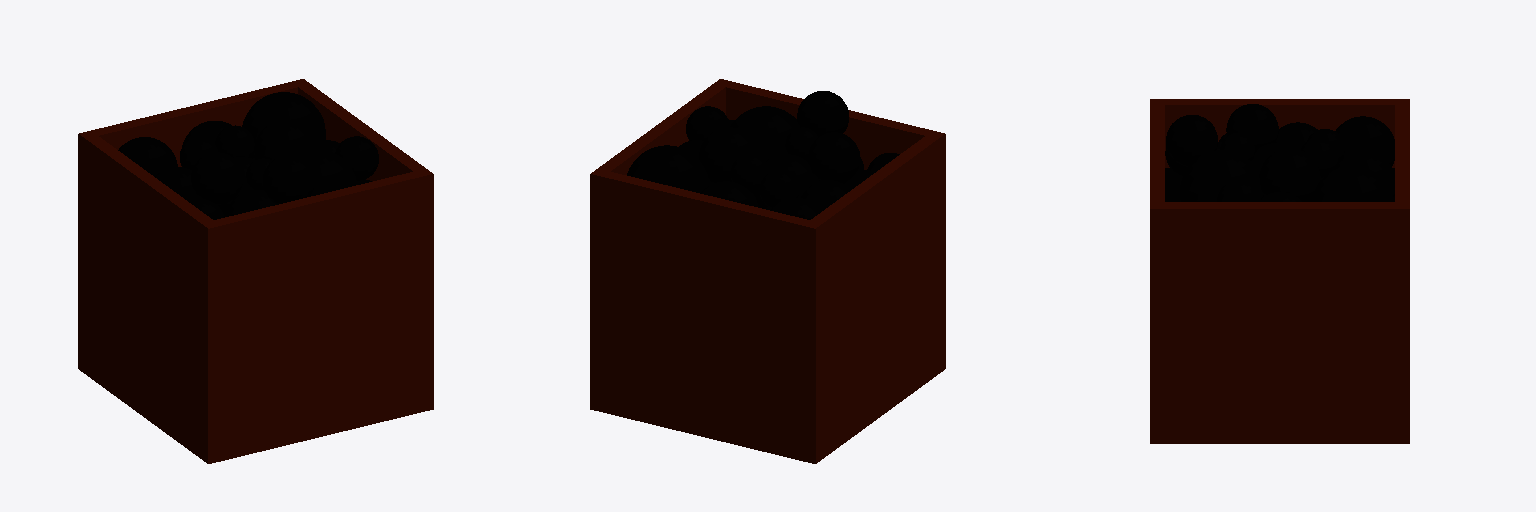
Rendered from CoalBucket.obj.
3 renders of one model, left to right at view 1: azimuth 30°, elevation 25°; view 2: azimuth 150°, elevation 25°; view 3: azimuth 270°, elevation 25°, orthographic.
Visible parts, largest first — view 1: pCube1, pasted__pasted__pasted__pSphere1 pasted__pasted__group5 pasted__, pasted__pSphere1 group8, pasted__pasted__pasted__pasted__pasted__pSphere1 pasted__pasted_, pasted__pasted__pSphere1 pasted__group8 group13, pSphere1, pasted__pSphere1 group5, pasted__pasted__pSphere1 pasted__group5 group12, pasted__pSphere1 group7; view 2: pCube1, pasted__pasted__pasted__pSphere1 pasted__pasted__group5 pasted__, pasted__pSphere1 group8, pasted__pasted__pSphere1 pasted__group8 group13, pasted__pasted__pasted__pasted__pasted__pSphere1 pasted__pasted_, pasted__pSphere1 group10, pasted__pSphere1 group5, pasted__pSphere1 group7, pSphere1; view 3: pCube1, pasted__pasted__pasted__pSphere1 pasted__pasted__group5 pasted__, pasted__pasted__pSphere1 pasted__group8 group13, pasted__pSphere1 group8, pSphere1, pasted__pasted__pasted__pasted__pasted__pSphere1 pasted__pasted_, pasted__pSphere1 group7, pasted__pSphere1 group5.
Part boxes in pixels (left/top/right/bottom): pCube1: left=78, top=79, right=433, bottom=463; pasted__pasted__pasted__pSphere1 pasted__pasted__group5 pasted__: left=180, top=120, right=314, bottom=204; pasted__pSphere1 group8: left=242, top=92, right=325, bottom=158; pasted__pasted__pasted__pasted__pasted__pSphere1 pasted__pasted_: left=246, top=136, right=378, bottom=189; pasted__pasted__pSphere1 pasted__group8 group13: left=294, top=149, right=356, bottom=196; pSphere1: left=118, top=137, right=177, bottom=176; pasted__pSphere1 group5: left=155, top=167, right=198, bottom=199; pasted__pasted__pSphere1 pasted__group5 group12: left=226, top=190, right=275, bottom=216; pasted__pSphere1 group7: left=182, top=121, right=231, bottom=146; pCube1: left=590, top=79, right=945, bottom=463; pasted__pasted__pasted__pSphere1 pasted__pasted__group5 pasted__: left=699, top=91, right=899, bottom=208; pasted__pSphere1 group8: left=627, top=145, right=709, bottom=192; pasted__pasted__pSphere1 pasted__group8 group13: left=730, top=106, right=799, bottom=160; pasted__pasted__pasted__pasted__pasted__pSphere1 pasted__pasted_: left=686, top=106, right=817, bottom=161; pasted__pSphere1 group10: left=753, top=154, right=818, bottom=208; pasted__pSphere1 group5: left=801, top=180, right=850, bottom=210; pasted__pSphere1 group7: left=700, top=181, right=758, bottom=207; pSphere1: left=770, top=198, right=821, bottom=219; pCube1: left=1150, top=99, right=1409, bottom=443; pasted__pasted__pasted__pSphere1 pasted__pasted__group5 pasted__: left=1165, top=104, right=1344, bottom=201; pasted__pasted__pSphere1 pasted__group8 group13: left=1180, top=150, right=1263, bottom=201; pasted__pSphere1 group8: left=1311, top=166, right=1394, bottom=201; pSphere1: left=1335, top=116, right=1394, bottom=166; pasted__pasted__pasted__pasted__pasted__pSphere1 pasted__pasted_: left=1217, top=133, right=1260, bottom=201; pasted__pSphere1 group7: left=1335, top=151, right=1394, bottom=196; pasted__pSphere1 group5: left=1276, top=122, right=1317, bottom=149.
Size of the model in its own units: 3 by 3.4 by 3.